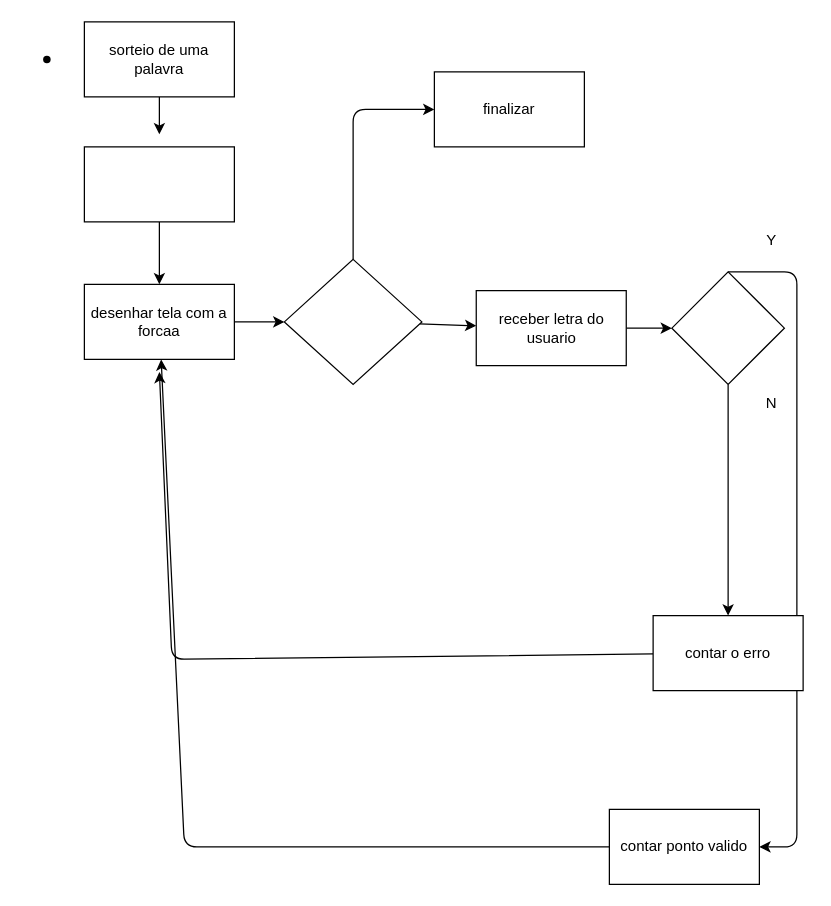
The diagram is 831 pixels wide and 906 high, and some of its shapes have lost their labels. The centre of each missing label's shape, as x and y in pixels:
"definir a quantidade de letras" belongs at point (158, 184).
"verifica se terminou o jogo" belongs at point (352, 321).
"verificar letra" belongs at point (727, 327).
